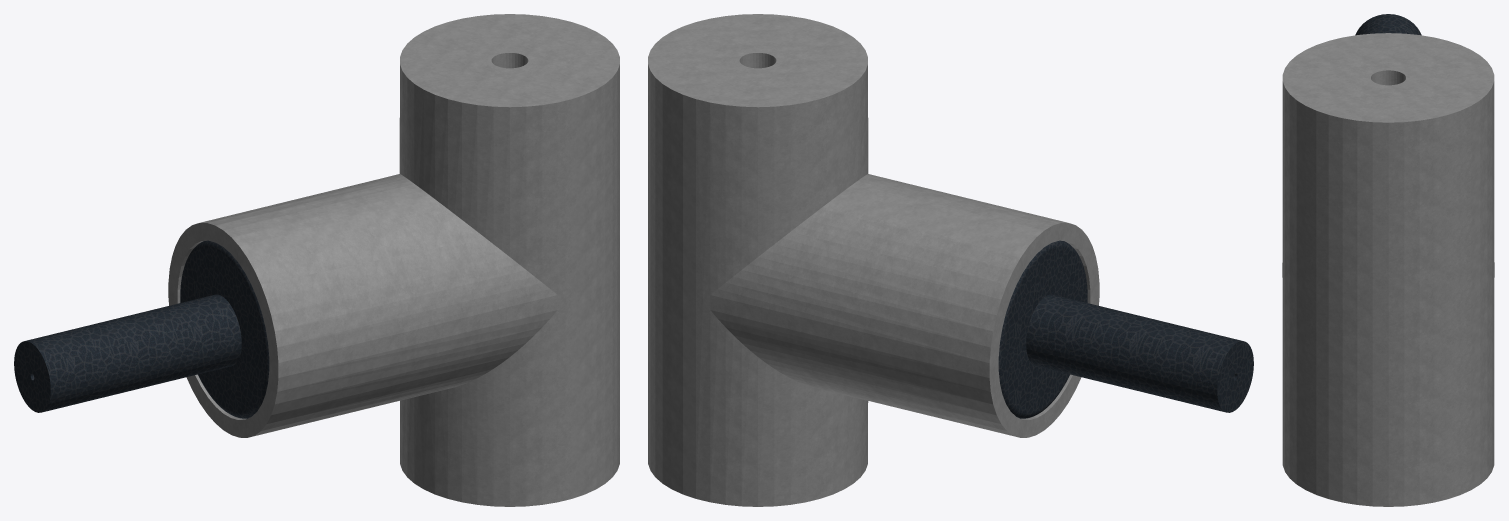
The model's file is Motor_RR.obj.
3 renders of one model, left to right at view 1: azimuth 30°, elevation 25°; view 2: azimuth 150°, elevation 25°; view 3: azimuth 270°, elevation 25°, orthographic. The views are drawn at different scales.
Parts seen in each view (by area): view 1: Motor_RR_visual; view 2: Motor_RR_visual; view 3: Motor_RR_visual.
Boxes of the visible parts, left/top/right/bottom form: Motor_RR_visual: left=14, top=14, right=619, bottom=506; Motor_RR_visual: left=648, top=14, right=1253, bottom=506; Motor_RR_visual: left=1282, top=14, right=1494, bottom=506.
Size of the model in its own units: 0.09 by 0.06 by 0.03.
Materials: 2 (2 with a texture image).
